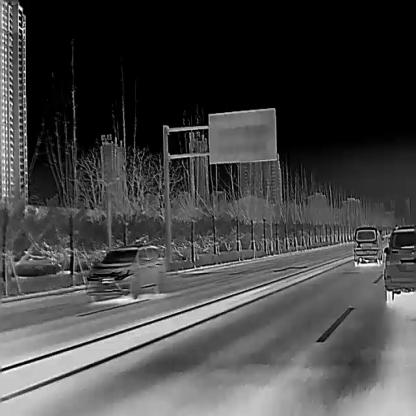car: (86, 243, 162, 301), (382, 224, 416, 303), (351, 225, 383, 266)
